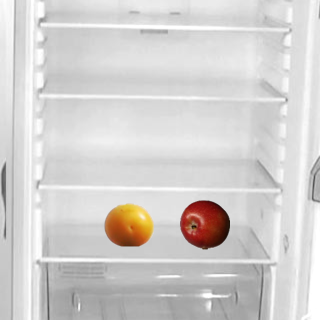Apple Braeburn: (179, 199, 229, 249)
Cherry Wax Yellow: (103, 199, 153, 249)
